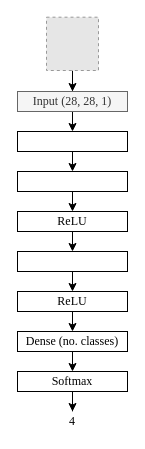
Image size: 145x449. Some labels were removed from this diagram. Grey dashed boxes stand in for pictures. The centre of each missing label's shape, as x and y in pixels:
Dense (32): the point at 72,261
Dense (64): the point at 72,181
Flatten: the point at 72,141
